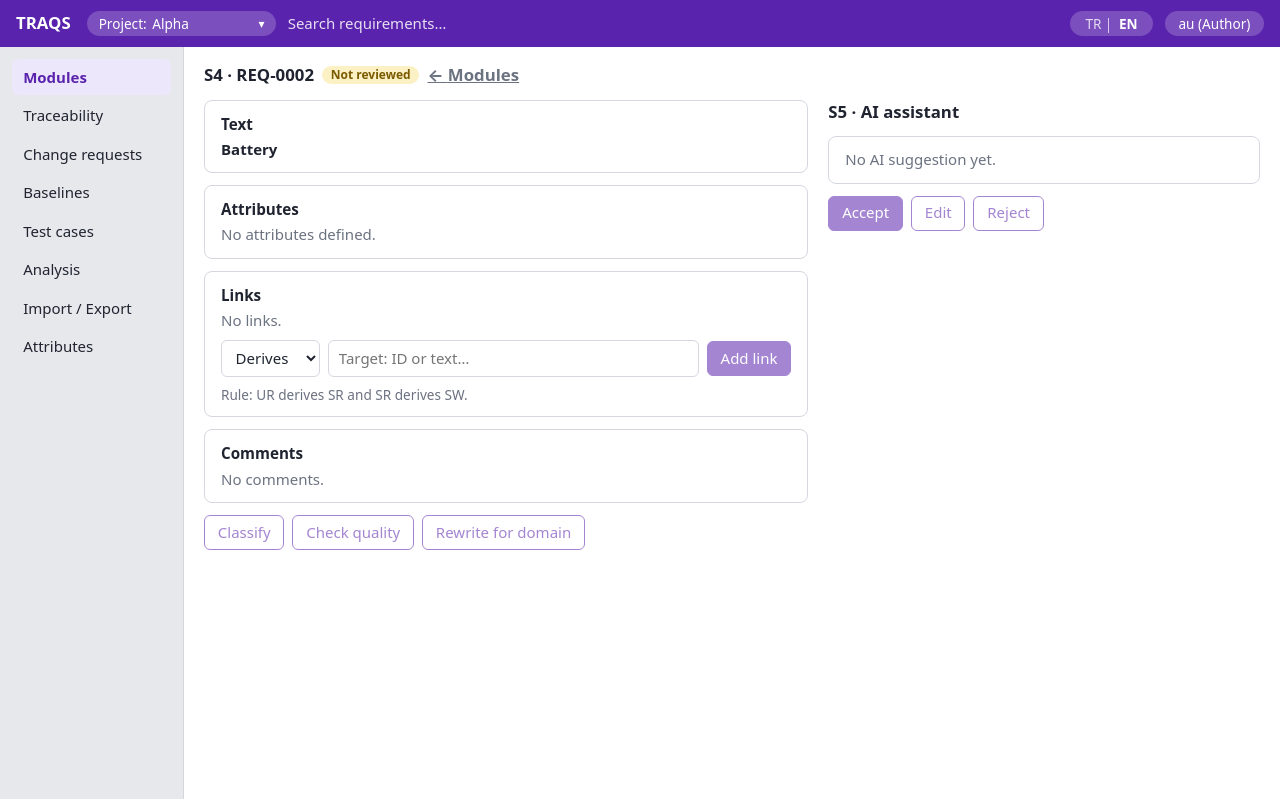
Test: Links card (S4) › shows the rule of the selected link type and the server's reason when a link is refused
Check: the text "Rule: UR derives SR and SR derives SW." is shown, box [221,385,468,404]
Select "Verifies" in the dropdown named "Link type" at (271, 358), box [221,340,320,377]
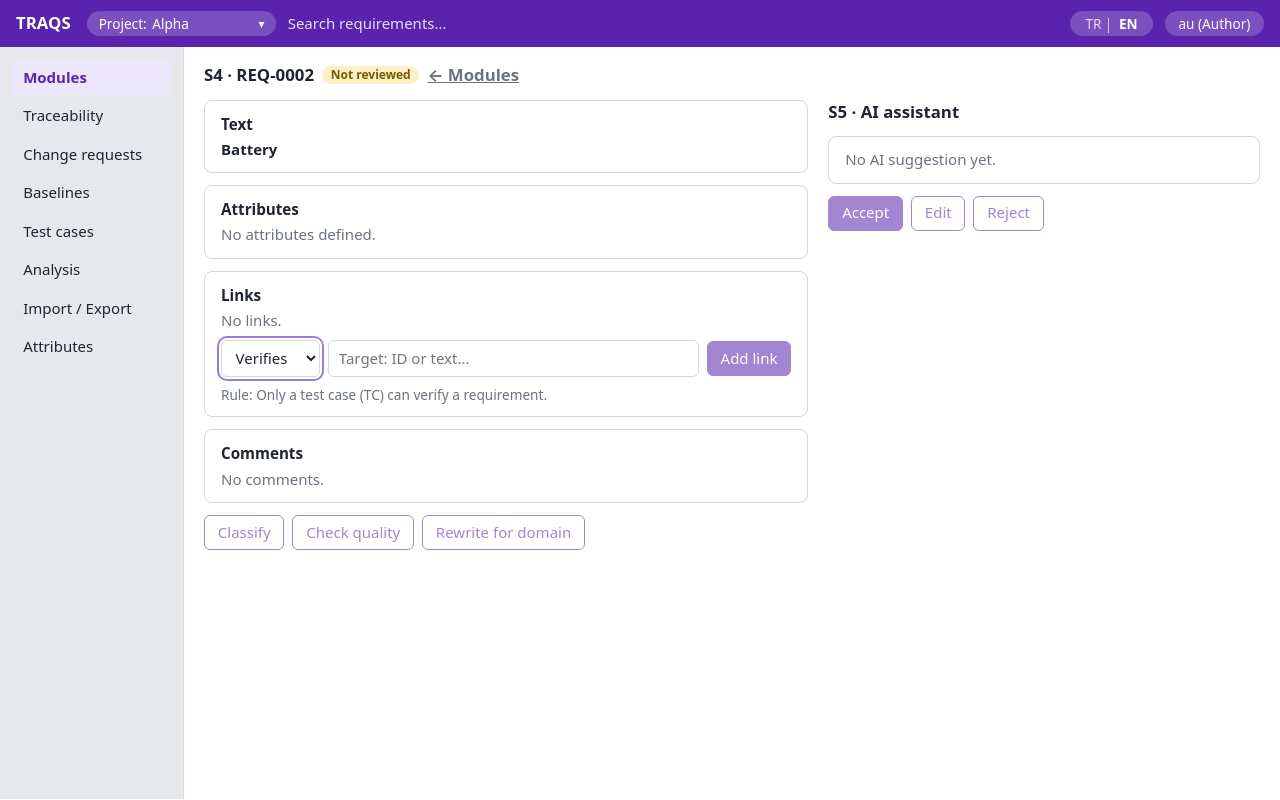
Check: the text "Rule: Only a test case (TC) can verify a requirement." is shown, box [221,385,547,404]
Type "cell" into the field labelled "Target: ID or text…" at (514, 358), box [328,340,699,377]
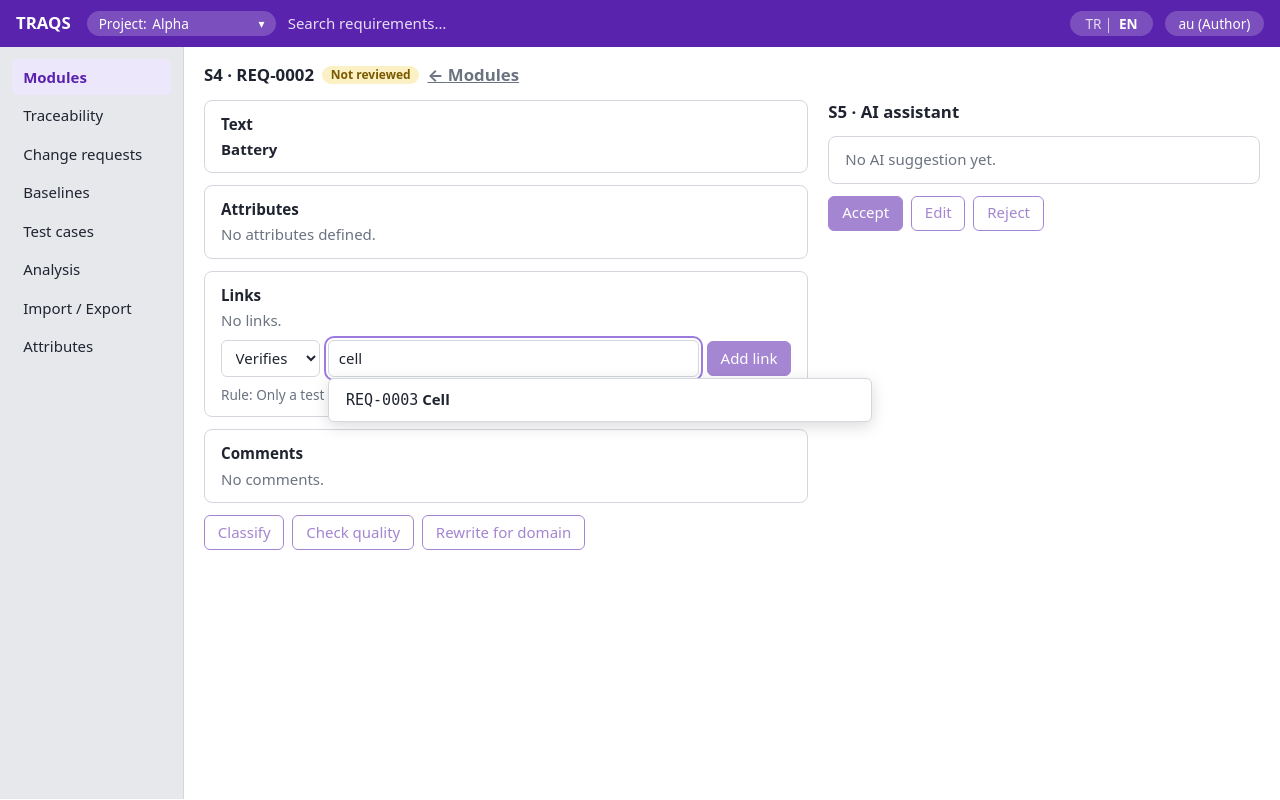
Click the button "REQ-0003 Cell" at (382, 400), box [333,384,867,417]
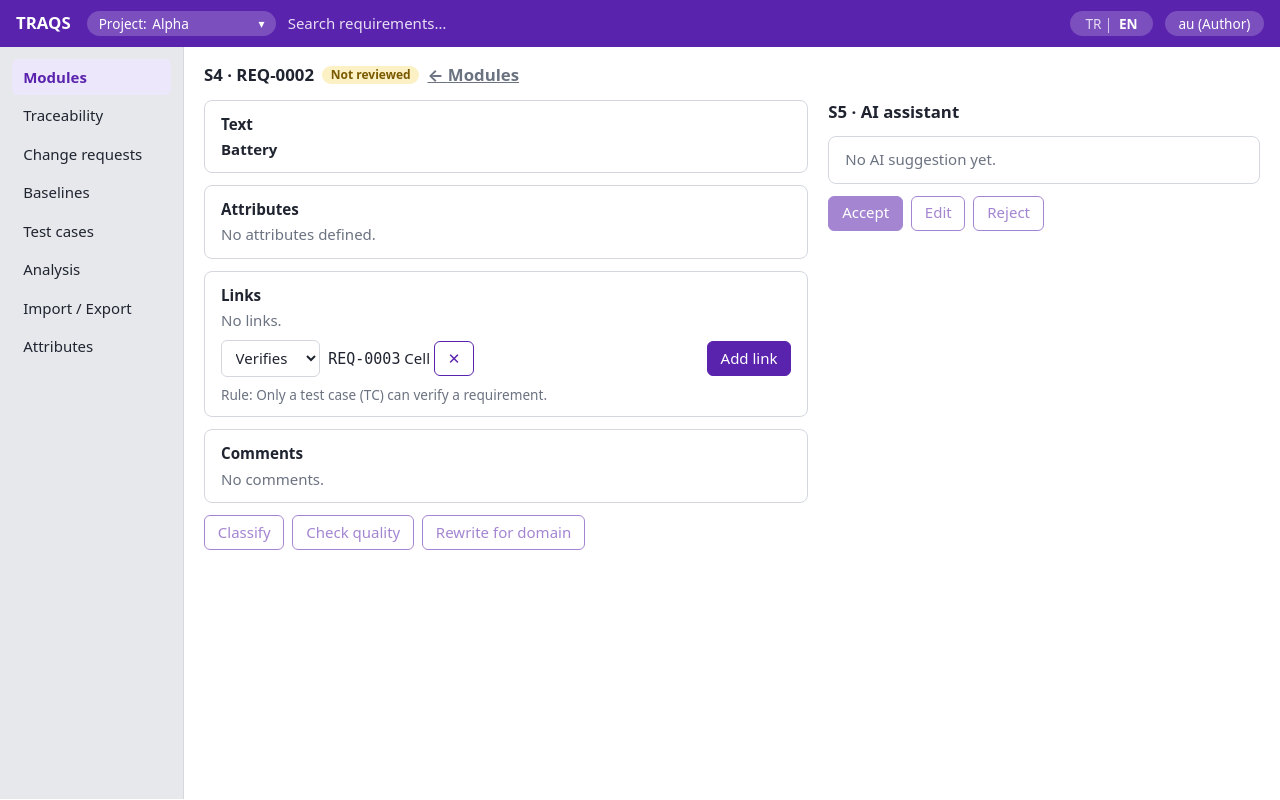
Click the button "Add link" at (749, 358), box [707,341,791,376]
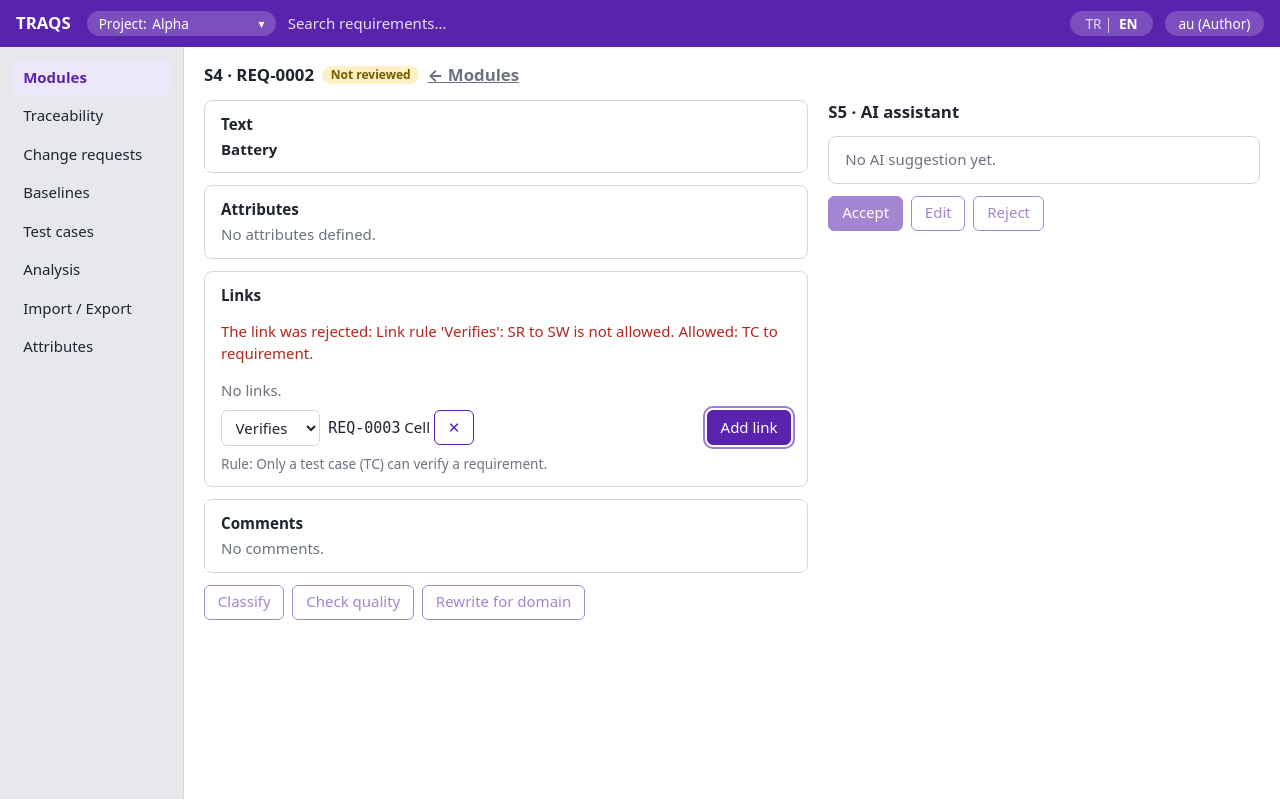
Check: the message shows "Link rule 'Verifies'", box [221,321,778,363]
Check: the message shows "Allowed: TC to requirement", box [221,321,778,363]
